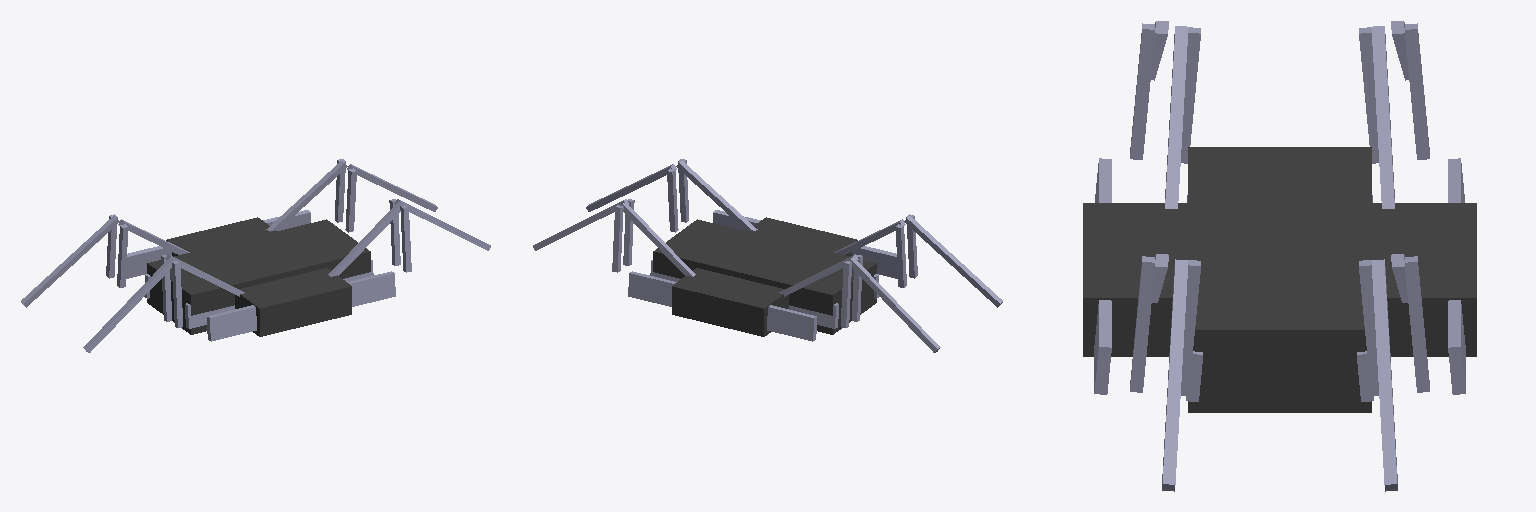
--- Facts derived from the render (not from the file) ---
The picture shows the robot from 3 angles, left to right: view 1: azimuth 30°, elevation 25°; view 2: azimuth 150°, elevation 25°; view 3: azimuth 270°, elevation 25°; orthographic projection.
Model quadruped with 27 links and 26 joints (8 continuous, 18 fixed), rooted at base_chassis_link, posed every joint at zero.
Links seen in each view (by area): view 1: base_chassis_link, chassis_right, chassis_left, lower_leg_back_leftR_link, lower_leg_back_rightR_link, lower_leg_front_leftR_link, lower_leg_front_rightR_link, lower_leg_front_leftL_link, lower_leg_front_rightL_link, upper_leg_front_rightR_link, upper_leg_back_rightR_link, upper_leg_front_leftL_link (+1 smaller); view 2: base_chassis_link, chassis_left, chassis_right, lower_leg_back_rightR_link, lower_leg_back_leftR_link, lower_leg_front_rightR_link, lower_leg_front_leftR_link, lower_leg_front_rightL_link, lower_leg_front_leftL_link, upper_leg_front_leftR_link, upper_leg_back_leftR_link, upper_leg_front_rightL_link (+1 smaller); view 3: base_chassis_link, lower_leg_front_rightL_link, lower_leg_front_leftL_link, chassis_right, chassis_left, lower_leg_back_rightL_link, lower_leg_back_leftL_link, upper_leg_back_rightR_link, upper_leg_back_leftR_link, upper_leg_front_rightR_link, upper_leg_front_leftR_link, upper_leg_front_rightL_link (+5 smaller).
Link boxes in pixels (left/top/right/bottom): base_chassis_link: left=147, top=217, right=370, bottom=336; chassis_right: left=185, top=260, right=395, bottom=341; chassis_left: left=126, top=210, right=310, bottom=298; lower_leg_back_leftR_link: left=21, top=216, right=119, bottom=307; lower_leg_back_rightR_link: left=83, top=257, right=174, bottom=352; lower_leg_front_leftR_link: left=266, top=161, right=347, bottom=231; lower_leg_front_rightR_link: left=328, top=202, right=402, bottom=276; lower_leg_front_leftL_link: left=347, top=164, right=437, bottom=211; lower_leg_front_rightL_link: left=395, top=199, right=490, bottom=250; upper_leg_front_rightR_link: left=400, top=205, right=411, bottom=272; upper_leg_back_rightR_link: left=172, top=261, right=182, bottom=327; upper_leg_front_leftL_link: left=345, top=168, right=356, bottom=232; base_chassis_link: left=653, top=217, right=876, bottom=336; chassis_left: left=628, top=260, right=838, bottom=341; chassis_right: left=713, top=210, right=897, bottom=298; lower_leg_back_rightR_link: left=904, top=216, right=1002, bottom=307; lower_leg_back_leftR_link: left=849, top=257, right=940, bottom=352; lower_leg_front_rightR_link: left=676, top=161, right=757, bottom=231; lower_leg_front_leftR_link: left=621, top=202, right=695, bottom=276; lower_leg_front_rightL_link: left=586, top=164, right=676, bottom=211; lower_leg_front_leftL_link: left=533, top=199, right=628, bottom=250; upper_leg_front_leftR_link: left=612, top=205, right=623, bottom=272; upper_leg_back_leftR_link: left=841, top=261, right=851, bottom=327; upper_leg_front_rightL_link: left=667, top=168, right=678, bottom=232; base_chassis_link: left=1083, top=147, right=1476, bottom=412; lower_leg_front_rightL_link: left=1162, top=259, right=1188, bottom=491; lower_leg_front_leftL_link: left=1371, top=259, right=1397, bottom=491; chassis_right: left=1094, top=158, right=1202, bottom=401; chassis_left: left=1357, top=158, right=1465, bottom=401; lower_leg_back_rightL_link: left=1165, top=26, right=1188, bottom=208; lower_leg_back_leftL_link: left=1371, top=26, right=1394, bottom=208; upper_leg_back_rightR_link: left=1130, top=23, right=1154, bottom=159; upper_leg_back_leftR_link: left=1405, top=23, right=1429, bottom=159; upper_leg_front_rightR_link: left=1130, top=256, right=1154, bottom=392; upper_leg_front_leftR_link: left=1405, top=256, right=1429, bottom=392; upper_leg_front_rightL_link: left=1181, top=260, right=1200, bottom=396.
Bounding box of the posed robot: 0.7535 × 0.3 × 0.155 m (x, y, z).
0 mesh visuals loaded from 1 distinct referenced files (none loaded); not drawn: 8 (reference not matched to a file when rendering).

URDF robot description (quadruped):
<?xml version="1.0" ?>
<!-- ======================================================================= -->
<!--LICENSE:                                                                 -->
<!--Copyright (c) 2017, Erwin Coumans                                        -->
<!--Google Inc.                                                              -->
<!--All rights reserved.                                                     -->
<!--                                                                         -->
<!--Redistribution and use in source and binary forms, with or without       -->
<!--modification, are permitted provided that the following conditions are   -->
<!--met:                                                                     -->
<!--                                                                         -->
<!--1. Redistributions or derived work must retain this copyright notice,    -->
<!--   this list of conditions and the following disclaimer.                 -->
<!--                                                                         -->
<!--2. Redistributions in binary form must reproduce the above copyright     -->
<!--   notice, this list of conditions and the following disclaimer in the   -->
<!--   documentation and/or other materials provided with the distribution.  -->
<!--                                                                         -->
<!--THIS SOFTWARE IS PROVIDED BY THE COPYRIGHT HOLDERS AND CONTRIBUTORS "AS  -->
<!--IS" AND ANY EXPRESS OR IMPLIED WARRANTIES, INCLUDING, BUT NOT LIMITED TO,-->
<!--THE IMPLIED WARRANTIES OF MERCHANTABILITY AND FITNESS FOR A PARTICULAR   -->
<!--PURPOSE ARE DISCLAIMED. IN NO EVENT SHALL THE COPYRIGHT HOLDER OR        -->
<!--CONTRIBUTORS BE LIABLE FOR ANY DIRECT, INDIRECT, INCIDENTAL, SPECIAL,    -->
<!--EXEMPLARY, OR CONSEQUENTIAL DAMAGES (INCLUDING, BUT NOT LIMITED TO,      -->
<!--PROCUREMENT OF SUBSTITUTE GOODS OR SERVICES; LOSS OF USE, DATA, OR       -->
<!--PROFITS; OR BUSINESS INTERRUPTION) HOWEVER CAUSED AND ON ANY THEORY OF   -->
<!--LIABILITY, WHETHER IN CONTRACT, STRICT LIABILITY, OR TORT (INCLUDING     -->
<!--NEGLIGENCE OR OTHERWISE) ARISING IN ANY WAY OUT OF THE USE OF THIS       -->
<!--SOFTWARE, EVEN IF ADVISED OF THE POSSIBILITY OF SUCH DAMAGE.             -->

<robot name="quadruped">
  <link name="base_chassis_link">
    <visual>
      <geometry>
        <box size=".33 0.14 .07"/>
      </geometry>
      <material name="black">
        <color rgba="0.3 0.3 0.3 1"/>
      </material>
    </visual>
    <visual>
			<origin rpy="0 0 0" xyz="0 0.10 0"/>
      <geometry>
        <box size=".17 0.10 .05"/>
      </geometry>
      <material name="black">
        <color rgba="0.3 0.3 0.3 1"/>
      </material>
    </visual>
		<visual>
			<origin rpy="0 0 0" xyz="0 -0.10 0"/>
      <geometry>
        <box size=".17 0.10 .05"/>
      </geometry>
      <material name="black">
        <color rgba="0.3 0.3 0.3 1"/>
      </material>
    </visual>

    <collision>
      <geometry>
       <box size=".34 0.14 .07"/>
      </geometry>
    </collision>
    <collision>
			<origin rpy="0 0 0" xyz="0 0.10 0"/>
      <geometry>
       <box size=".17 0.10 .05"/>
      </geometry>
    </collision>
    <collision>
			<origin rpy="0 0 0" xyz="0 -0.10 0"/>
      <geometry>
       <box size=".17 0.10 .05"/>
      </geometry>
    </collision>

    <inertial>
      <mass value="3"/>
      <inertia ixx="1.0" ixy="0.0" ixz="0.0" iyy="1.0" iyz="0.0" izz="1.0"/>
    </inertial>
  </link>

  <link name="chassis_right">
    <visual>
			<origin rpy="0 0 0" xyz="0 0.035 0"/>
      <geometry>
       <box size=".34 0.01 .04"/>
      </geometry>
			<material name="grey">
        <color rgba="0.65 0.65 0.75 1"/>
      </material>    </visual>
    <visual>
			<origin rpy="0 0 0" xyz="0 -0.035 0"/>
      <geometry>
       <box size=".34 0.01 .04"/>
      </geometry>
			<material name="grey">
        <color rgba="0.65 0.65 0.75 1"/>
      </material>    </visual>
    <collision>
			<origin rpy="0 0 0" xyz="0 0.035 0"/>
      <geometry>
       <box size=".34 0.01 .04"/>
      </geometry>
    </collision>
    <collision>
			<origin rpy="0 0 0" xyz="0 -0.035 0"/>
      <geometry>
       <box size=".34 0.01 .04"/>
      </geometry>
    </collision>
    <inertial>
      <mass value=".1"/>
      <inertia ixx="1.0" ixy="0.0" ixz="0.0" iyy="1.0" iyz="0.0" izz="1.0"/>
    </inertial>
  </link>

  <joint name="chassis_right_center" type="fixed">
    <axis xyz="0 0 1"/>
    <parent link="base_chassis_link"/>
    <child link="chassis_right"/>
    <origin rpy="-0.0872665 0 0" xyz="0.0 -0.10 0.0"/>
    <limit effort="100" velocity="100"/>
    <joint_properties damping="0.0" friction="0.0"/>
  </joint>

  <link name="chassis_left">
    <visual>
			<origin rpy="0 0 0" xyz="0 0.035 0"/>
      <geometry>
       <box size=".34 0.01 .04"/>
      </geometry>
			<material name="grey">
        <color rgba="0.65 0.65 0.75 1"/>
      </material>    </visual>
    <visual>
			<origin rpy="0 0 0" xyz="0 -0.035 0"/>
      <geometry>
       <box size=".34 0.01 .04"/>
      </geometry>
			<material name="grey">
        <color rgba="0.65 0.65 0.75 1"/>
      </material>    </visual>
    <collision>
			<origin rpy="0 0 0" xyz="0 0.035 0"/>
      <geometry>
       <box size=".34 0.01 .04"/>
      </geometry>
    </collision>
    <collision>
			<origin rpy="0 0 0" xyz="0 -0.035 0"/>
      <geometry>
       <box size=".34 0.01 .04"/>
      </geometry>
    </collision>
    <inertial>
      <mass value=".1"/>
      <inertia ixx="1.0" ixy="0.0" ixz="0.0" iyy="1.0" iyz="0.0" izz="1.0"/>
    </inertial>
  </link>

  <joint name="chassis_left_center" type="fixed">
    <axis xyz="0 0 1"/>
    <parent link="base_chassis_link"/>
    <child link="chassis_left"/>
    <origin rpy="0.0872665 0 0" xyz="0.0 0.10 0.0"/>
    <limit effort="100" velocity="100"/>
    <joint_properties damping="0.0" friction="0.0"/>
  </joint>

  
  
  <link name="motor_front_rightR_link">
    <visual>
      <geometry>
        <mesh filename="tmotor3.obj" scale="1 1 1"/>
      </geometry>
      <material name="white">
        <color rgba="1 1 1 1"/>
      </material>
    </visual>
    <collision>
      <geometry>
        <cylinder length="0.026" radius="0.0434"/>
      </geometry>
    </collision>
    <inertial>
      <mass value="0.25"/>
      <inertia ixx="1.0" ixy="0.0" ixz="0.0" iyy="1.0" iyz="0.0" izz="1.0"/>
    </inertial>
  </link>
  <joint name="motor_front_rightR_joint" type="continuous">
    <axis xyz="0 0 1"/>
    <parent link="chassis_right"/>
    <child link="motor_front_rightR_link"/>
    <origin rpy="1.57075 0 0" xyz="0.21 -0.025 0"/>
    <limit effort="100" velocity="100"/>
    <joint_properties damping="0.0" friction="0.0"/>
  </joint>


	<link name="motor_front_rightL_link">
    <visual>
      <geometry>
        <mesh filename="tmotor3.obj" scale="1 1 1"/>
      </geometry>
      <material name="white">
        <color rgba="1 1 1 1"/>
      </material>
    </visual>
    <collision>
      <geometry>
        <cylinder length="0.026" radius="0.0434"/>
      </geometry>
    </collision>
    <inertial>
      <mass value="0.25"/>
      <inertia ixx="1.0" ixy="0.0" ixz="0.0" iyy="1.0" iyz="0.0" izz="1.0"/>
    </inertial>
  </link>
  <joint name="motor_front_rightL_joint" type="continuous">
    <axis xyz="0 0 1"/>
    <parent link="chassis_right"/>
    <child link="motor_front_rightL_link"/>
    <origin rpy="1.57075 0 3.141592" xyz="0.21 0.04 0"/>
    <limit effort="100" velocity="100"/>
    <joint_properties damping="0.0" friction="0.0"/>
  </joint>
  
  
  <link name="motor_front_leftR_link">
    <visual>
      <geometry>
        <mesh filename="tmotor3.obj" scale="1 1 1"/>
      </geometry>
      <material name="white">
        <color rgba="1 1 1 1"/>
      </material>
    </visual>
    <collision>
      <geometry>
        <cylinder length="0.026" radius="0.0434"/>
      </geometry>
    </collision>
    <inertial>
      <mass value="0.25"/>
      <inertia ixx="1.0" ixy="0.0" ixz="0.0" iyy="1.0" iyz="0.0" izz="1.0"/>
    </inertial>
  </link>
  <joint name="motor_front_leftR_joint" type="continuous">
    <axis xyz="0 0 1"/>
    <parent link="chassis_left"/>
    <child link="motor_front_leftR_link"/>
    <origin rpy="1.57075 0 3.141592" xyz="0.21 0.025 0"/>
    <limit effort="100" velocity="100"/>
    <joint_properties damping="0.0" friction="0.0"/>
  </joint>


	<link name="motor_front_leftL_link">
    <visual>
      <geometry>
        <mesh filename="tmotor3.obj" scale="1 1 1"/>
      </geometry>
      <material name="white">
        <color rgba="1 1 1 1"/>
      </material>
    </visual>
    <inertial>
      <mass value="0.25"/>
      <inertia ixx="1.0" ixy="0.0" ixz="0.0" iyy="1.0" iyz="0.0" izz="1.0"/>
    </inertial>
  </link>
  <joint name="motor_front_leftL_joint" type="continuous">
    <axis xyz="0 0 1"/>
    <parent link="chassis_left"/>
    <child link="motor_front_leftL_link"/>
    <origin rpy="1.57075 0 0" xyz="0.21 -0.04 0"/>
    <limit effort="100" velocity="100"/>
    <joint_properties damping="0.0" friction="0.0"/>
  </joint>
  
  
  <link name="motor_back_rightR_link">
    <visual>
      <geometry>
        <mesh filename="tmotor3.obj" scale="1 1 1"/>
      </geometry>
      <material name="white">
        <color rgba="1 1 1 1"/>
      </material>
    </visual>
    <collision>
      <geometry>
        <cylinder length="0.026" radius="0.0434"/>
      </geometry>
    </collision>
    <inertial>
      <mass value="0.25"/>
      <inertia ixx="1.0" ixy="0.0" ixz="0.0" iyy="1.0" iyz="0.0" izz="1.0"/>
    </inertial>
  </link>
  <joint name="motor_back_rightR_joint" type="continuous">
    <axis xyz="0 0 1"/>
    <parent link="chassis_right"/>
    <child link="motor_back_rightR_link"/>
    <origin rpy="1.57075 0 0" xyz="-0.21 -0.025 0"/>
    <limit effort="100" velocity="100"/>
    <joint_properties damping="0.0" friction="0.0"/>
  </joint>


	<link name="motor_back_rightL_link">
    <visual>
      <geometry>
        <mesh filename="tmotor3.obj" scale="1 1 1"/>
      </geometry>
      <material name="white">
        <color rgba="1 1 1 1"/>
      </material>
    </visual>
    <collision>
      <geometry>
        <cylinder length="0.026" radius="0.0434"/>
      </geometry>
    </collision>
    <inertial>
      <mass value="0.25"/>
      <inertia ixx="1.0" ixy="0.0" ixz="0.0" iyy="1.0" iyz="0.0" izz="1.0"/>
    </inertial>
  </link>
  <joint name="motor_back_rightL_joint" type="continuous">
    <axis xyz="0 0 1"/>
    <parent link="chassis_right"/>
    <child link="motor_back_rightL_link"/>
    <origin rpy="1.57075 0 3.141592" xyz="-0.21 0.04 0"/>
    <limit effort="100" velocity="100"/>
    <joint_properties damping="0.0" friction="0.0"/>
  </joint>
  
  
  <link name="motor_back_leftR_link">
    <visual>
      <geometry>
        <mesh filename="tmotor3.obj" scale="1 1 1"/>
      </geometry>
      <material name="white">
        <color rgba="1 1 1 1"/>
      </material>
    </visual>
    <collision>
      <geometry>
        <cylinder length="0.026" radius="0.0434"/>
      </geometry>
    </collision>
    <inertial>
      <mass value="0.25"/>
      <inertia ixx="1.0" ixy="0.0" ixz="0.0" iyy="1.0" iyz="0.0" izz="1.0"/>
    </inertial>
  </link>
  <joint name="motor_back_leftR_joint" type="continuous">
    <axis xyz="0 0 1"/>
    <parent link="chassis_left"/>
    <child link="motor_back_leftR_link"/>
    <origin rpy="1.57075 0 3.141592" xyz="-0.21 0.025 0"/>
    <limit effort="100" velocity="100"/>
    <joint_properties damping="0.0" friction="0.0"/>
  </joint>


	<link name="motor_back_leftL_link">
    <visual>
      <geometry>
        <mesh filename="tmotor3.obj" scale="1 1 1"/>
      </geometry>
      <material name="white">
        <color rgba="1 1 1 1"/>
      </material>
    </visual>
    <collision>
      <geometry>
        <cylinder length="0.026" radius="0.0434"/>
      </geometry>
    </collision>
    <inertial>
      <mass value="0.25"/>
      <inertia ixx="1.0" ixy="0.0" ixz="0.0" iyy="1.0" iyz="0.0" izz="1.0"/>
    </inertial>
  </link>
  <joint name="motor_back_leftL_joint" type="continuous">
    <axis xyz="0 0 1"/>
    <parent link="chassis_left"/>
    <child link="motor_back_leftL_link"/>
    <origin rpy="1.57075 0 0" xyz="-0.21 -0.04 0"/>
    <limit effort="100" velocity="100"/>
    <joint_properties damping="0.0" friction="0.0"/>
  </joint>

	<link name="upper_leg_front_rightR_link">
    <visual>
      <geometry>
        <box size=".01 0.01 .11"/>
      </geometry>
      <material name="grey">
        <color rgba="0.65 0.65 0.75 1"/>
      </material>
    </visual>
    <collision>
      <geometry>
        <box size=".01 0.01 .11"/>
      </geometry>
    </collision>
    <inertial>
      <mass value="0.05"/>
      <inertia ixx="1.0" ixy="0.0" ixz="0.0" iyy="1.0" iyz="0.0" izz="1.0"/>
    </inertial>
  </link>
  <joint name="hip_front_rightR_link" type="fixed">
    <axis xyz="0 0 1"/>
    <parent link="motor_front_rightR_link"/>
    <child link="upper_leg_front_rightR_link"/>
    <origin rpy="-1.57075 0 0" xyz="0.0 0.06 -0.015"/>
    <limit effort="100" velocity="100"/>
    <joint_properties damping="0.0" friction="0.0"/>
  </joint>

	<link name="lower_leg_front_rightR_link">
	<contact>
	  <stiffness value="10000"/>
    <damping value="10"/>
		<lateral_friction value="1"/>
  </contact>

    <visual>
    	<origin rpy="0.0 0 0" xyz="0 0 .1"/>
      <geometry>
        <box size=".01 0.01 .2"/>
      </geometry>
      <material name="grey">
        <color rgba="0.65 0.65 0.75 1"/>
      </material>
    </visual>
    <collision>
    	<origin rpy="0.0 0 0" xyz="0 0 .1"/>
      <geometry>
        <box size=".01 0.01 .2"/>
      </geometry>
    </collision>
    <inertial>
      <mass value="0.05"/>
      <inertia ixx="1.0" ixy="0.0" ixz="0.0" iyy="1.0" iyz="0.0" izz="1.0"/>
    </inertial>
  </link>
  <joint name="knee_front_rightR_link" type="fixed">
    <axis xyz="0 1 0"/>
    <parent link="upper_leg_front_rightR_link"/>
    <child link="lower_leg_front_rightR_link"/>
    <origin rpy="0 -2.1834 0" xyz="0.0 0.01 .055"/>
    <limit effort="100" velocity="100"/>
    <joint_properties damping="0.0" friction="0.0"/>
  </joint>

    
  <link name="upper_leg_front_rightL_link">
    <visual>
      <geometry>
        <box size=".01 0.01 .11"/>
      </geometry>
      <material name="grey">
        <color rgba="0.65 0.65 0.75 1"/>
      </material>
    </visual>
    <collision>
      <geometry>
        <box size=".01 0.01 .11"/>
      </geometry>
    </collision>
    <inertial>
      <mass value="0.05"/>
      <inertia ixx="1.0" ixy="0.0" ixz="0.0" iyy="1.0" iyz="0.0" izz="1.0"/>
    </inertial>
  </link>
  <joint name="motor_front_rightL_link" type="fixed">
    <axis xyz="0 0 1"/>
    <parent link="motor_front_rightL_link"/>
    <child link="upper_leg_front_rightL_link"/>
    <origin rpy="-1.57075 0 0" xyz="0.0 0.06 -0.015"/>
    <limit effort="100" velocity="100"/>
    <joint_properties damping="0.0" friction="0.0"/>
  </joint>

  

  
  <link name="lower_leg_front_rightL_link">
	<contact>
		<stiffness value="10000"/>
		<damping value="10"/>
		<lateral_friction value="1"/>
  </contact>

    <visual>
    	<origin rpy="0.0 0 0" xyz="0 0 .1"/>
      <geometry>
        <box size=".01 0.01 .198"/>
      </geometry>
      <material name="grey">
        <color rgba="0.65 0.65 0.75 1"/>
      </material>
    </visual>
    <collision>
    	<origin rpy="0.0 0 0" xyz="0 0 .1"/>
      <geometry>
        <box size=".01 0.01 .198"/>
      </geometry>
    </collision>
    <inertial>
      <mass value="0.05"/>
      <inertia ixx="1.0" ixy="0.0" ixz="0.0" iyy="1.0" iyz="0.0" izz="1.0"/>
    </inertial>
  </link>
  <joint name="knee_front_rightL_link" type="fixed">
    <axis xyz="0 1 0"/>
    <parent link="upper_leg_front_rightL_link"/>
    <child link="lower_leg_front_rightL_link"/>
    <origin rpy="0 -2.1834 0" xyz="0.0 0.01 .055"/>
    <limit effort="100" velocity="100"/>
    <joint_properties damping="0.0" friction="0.0"/>
  </joint>


	<link name="upper_leg_front_leftR_link">
    <visual>
      <geometry>
        <box size=".01 0.01 .11"/>
      </geometry>
      <material name="grey">
        <color rgba="0.65 0.65 0.75 1"/>
      </material>
    </visual>
    <collision>
      <geometry>
        <box size=".01 0.01 .11"/>
      </geometry>
    </collision>
    <inertial>
      <mass value="0.05"/>
      <inertia ixx="1.0" ixy="0.0" ixz="0.0" iyy="1.0" iyz="0.0" izz="1.0"/>
    </inertial>
  </link>
  <joint name="hip_front_leftR_link" type="fixed">
    <axis xyz="0 0 1"/>
    <parent link="motor_front_leftR_link"/>
    <child link="upper_leg_front_leftR_link"/>
    <origin rpy="-1.57075 0 0" xyz="0.0 0.06 -0.015"/>
    <limit effort="100" velocity="100"/>
    <joint_properties damping="0.0" friction="0.0"/>
  </joint>


	<link name="lower_leg_front_leftR_link">
	<contact>
		<stiffness value="10000"/>
		<damping value="10"/>
		<lateral_friction value="1"/>
  </contact>

    <visual>
    	<origin rpy="0.0 0.0 0" xyz="0 0 .1"/>
      <geometry>
        <box size=".01 0.01 .2"/>
      </geometry>
      <material name="grey">
        <color rgba="0.65 0.65 0.75 1"/>
      </material>
    </visual>
    <collision>
    	<origin rpy="0.0 0.0 0" xyz="0 0 .1"/>
      <geometry>
        <box size=".01 0.01 .2"/>
      </geometry>
    </collision>
    <inertial>
      <mass value="0.05"/>
      <inertia ixx="1.0" ixy="0.0" ixz="0.0" iyy="1.0" iyz="0.0" izz="1.0"/>
    </inertial>
  </link>
  <joint name="knee_front_leftR_link" type="fixed">
    <axis xyz="0 1 0"/>
    <parent link="upper_leg_front_leftR_link"/>
    <child link="lower_leg_front_leftR_link"/>
    <origin rpy="0 2.1834 0" xyz="0.0 0.01 .055"/>
    <limit effort="100" velocity="100"/>
    <joint_properties damping="0.0" friction="0.0"/>
  </joint>



   <link name="upper_leg_front_leftL_link">
    <visual>
      <geometry>
        <box size=".01 0.01 .11"/>
      </geometry>
      <material name="grey">
        <color rgba="0.65 0.65 0.75 1"/>
      </material>
    </visual>
    <collision>
      <geometry>
        <box size=".01 0.01 .11"/>
      </geometry>
    </collision>
    <inertial>
      <mass value="0.05"/>
      <inertia ixx="1.0" ixy="0.0" ixz="0.0" iyy="1.0" iyz="0.0" izz="1.0"/>
    </inertial>
  </link>
  <joint name="motor_front_leftL_link" type="fixed">
    <axis xyz="0 0 1"/>
    <parent link="motor_front_leftL_link"/>
    <child link="upper_leg_front_leftL_link"/>
    <origin rpy="-1.57075 0 0" xyz="0.0 0.06 -0.015"/>
    <limit effort="100" velocity="100"/>
    <joint_properties damping="0.0" friction="0.0"/>
  </joint>


  <link name="lower_leg_front_leftL_link">
	<contact>
		<stiffness value="10000"/>
		<damping value="10"/>
		<lateral_friction value="1"/>
  </contact>

    <visual>
    	<origin rpy="0.0 0.0 0" xyz="0 0 .1"/>
      <geometry>
        <box size=".01 0.01 .198"/>
      </geometry>
      <material name="grey">
        <color rgba="0.65 0.65 0.75 1"/>
      </material>
    </visual>
    <collision>
    	<origin rpy="0.0 0.0 0" xyz="0 0 .1"/>
      <geometry>
        <box size=".01 0.01 .198"/>
      </geometry>
    </collision>
    <inertial>
      <mass value="0.05"/>
      <inertia ixx="1.0" ixy="0.0" ixz="0.0" iyy="1.0" iyz="0.0" izz="1.0"/>
    </inertial>
  </link>
  <joint name="knee_front_leftL_link" type="fixed">
    <axis xyz="0 1 0"/>
    <parent link="upper_leg_front_leftL_link"/>
    <child link="lower_leg_front_leftL_link"/>
    <origin rpy="0 2.1834 0" xyz="0.0 0.01 .055"/>
    <limit effort="100" velocity="100"/>
    <joint_properties damping="0.0" friction="0.0"/>
  </joint>
  
	<link name="upper_leg_back_rightR_link">
    <visual>
      <geometry>
        <box size=".01 0.01 .11"/>
      </geometry>
      <material name="grey">
        <color rgba="0.65 0.65 0.75 1"/>
      </material>
    </visual>
    <collision>
      <geometry>
        <box size=".01 0.01 .11"/>
      </geometry>
    </collision>
    <inertial>
      <mass value="0.05"/>
      <inertia ixx="1.0" ixy="0.0" ixz="0.0" iyy="1.0" iyz="0.0" izz="1.0"/>
    </inertial>
  </link>
  <joint name="hip_rightR_link" type="fixed">
    <axis xyz="0 0 1"/>
    <parent link="motor_back_rightR_link"/>
    <child link="upper_leg_back_rightR_link"/>
    <origin rpy="-1.57075 0 0" xyz="0.0 0.06 -0.015"/>
    <limit effort="100" velocity="100"/>
    <joint_properties damping="0.0" friction="0.0"/>
  </joint>

	<link name="lower_leg_back_rightR_link">
	<contact>
		<stiffness value="10000"/>
		<damping value="10"/>
		<lateral_friction value="1"/>
  </contact>

    <visual>
    	<origin rpy="0.0 0 0" xyz="0 0 .1"/>
      <geometry>
        <box size=".01 0.01 .2032"/>
      </geometry>
      <material name="grey">
        <color rgba="0.65 0.65 0.75 1"/>
      </material>
    </visual>
    <collision>
    	<origin rpy="0.0 0 0" xyz="0 0 .1"/>
      <geometry>
        <box size=".01 0.01 .2032"/>
      </geometry>
    </collision>
    <inertial>
      <mass value="0.05"/>
      <inertia ixx="1.0" ixy="0.0" ixz="0.0" iyy="1.0" iyz="0.0" izz="1.0"/>
    </inertial>
  </link>
  <joint name="knee_back_rightR_link" type="fixed">
    <axis xyz="0 1 0"/>
    <parent link="upper_leg_back_rightR_link"/>
    <child link="lower_leg_back_rightR_link"/>
    <origin rpy="0 -2.1834 0" xyz="0.0 0.01 .055"/>
    <limit effort="100" velocity="100"/>
    <joint_properties damping="0.0" friction="0.0"/>
  </joint>

    
  <link name="upper_leg_back_rightL_link">
    <visual>
      <geometry>
        <box size=".01 0.01 .11"/>
      </geometry>
      <material name="grey">
        <color rgba="0.65 0.65 0.75 1"/>
      </material>
    </visual>
    <collision>
      <geometry>
        <box size=".01 0.01 .11"/>
      </geometry>
    </collision>
    <inertial>
      <mass value="0.05"/>
      <inertia ixx="1.0" ixy="0.0" ixz="0.0" iyy="1.0" iyz="0.0" izz="1.0"/>
    </inertial>
  </link>
  <joint name="motor_back_rightL_link" type="fixed">
    <axis xyz="0 0 1"/>
    <parent link="motor_back_rightL_link"/>
    <child link="upper_leg_back_rightL_link"/>
    <origin rpy="-1.57075 0 0" xyz="0.0 0.06 -0.015"/>
    <limit effort="100" velocity="100"/>
    <joint_properties damping="0.0" friction="0.0"/>
  </joint>

  

  
  <link name="lower_leg_back_rightL_link">
	<contact>
		<stiffness value="10000"/>
		<damping value="10"/>
		<lateral_friction value="1"/>
  </contact>

    <visual>
    	<origin rpy="0.0 0 0" xyz="0 0 .1"/>
      <geometry>
        <box size=".01 0.01 .2"/>
      </geometry>
      <material name="grey">
        <color rgba="0.65 0.65 0.75 1"/>
      </material>
    </visual>
    <collision>
    	<origin rpy="0.0 0 0" xyz="0 0 .1"/>
      <geometry>
        <box size=".01 0.01 .2"/>
      </geometry>
    </collision>
    <inertial>
      <mass value="0.05"/>
      <inertia ixx="1.0" ixy="0.0" ixz="0.0" iyy="1.0" iyz="0.0" izz="1.0"/>
    </inertial>
  </link>
  <joint name="knee_back_rightL_link" type="fixed">
    <axis xyz="0 1 0"/>
    <parent link="upper_leg_back_rightL_link"/>
    <child link="lower_leg_back_rightL_link"/>
    <origin rpy="0 -2.1834 0" xyz="0.0 0.01 .055"/>
    <limit effort="100" velocity="100"/>
    <joint_properties damping="0.0" friction="0.0"/>
  </joint>



	<link name="upper_leg_back_leftR_link">
    <visual>
      <geometry>
        <box size=".01 0.01 .11"/>
      </geometry>
      <material name="grey">
        <color rgba="0.65 0.65 0.75 1"/>
      </material>
    </visual>
    <collision>
      <geometry>
        <box size=".01 0.01 .11"/>
      </geometry>
    </collision>
    <inertial>
      <mass value="0.05"/>
      <inertia ixx="1.0" ixy="0.0" ixz="0.0" iyy="1.0" iyz="0.0" izz="1.0"/>
    </inertial>
  </link>
  <joint name="hip_leftR_link" type="fixed">
    <axis xyz="0 0 1"/>
    <parent link="motor_back_leftR_link"/>
    <child link="upper_leg_back_leftR_link"/>
    <origin rpy="-1.57075 0 0" xyz="0.0 0.06 -0.015"/>
    <limit effort="100" velocity="100"/>
    <joint_properties damping="0.0" friction="0.0"/>
  </joint>

<link name="lower_leg_back_leftR_link">
	<contact>
		<stiffness value="10000"/>
		<damping value="10"/>		
		<lateral_friction value="1"/>
  </contact>

    <visual>
    	<origin rpy="0.0 0 0" xyz="0 0 .1"/>
      <geometry>
        <box size=".01 0.01 .2032"/>
      </geometry>
      <material name="grey">
        <color rgba="0.65 0.65 0.75 1"/>
      </material>
    </visual>
    <collision>
    	<origin rpy="0.0 0 0" xyz="0 0 .1"/>
      <geometry>
        <box size=".01 0.01 .2032"/>
      </geometry>
    </collision>
    <inertial>
      <mass value="0.05"/>
      <inertia ixx="1.0" ixy="0.0" ixz="0.0" iyy="1.0" iyz="0.0" izz="1.0"/>
    </inertial>
  </link>
  <joint name="knee_back_leftR_link" type="fixed">
    <axis xyz="0 1 0"/>
    <parent link="upper_leg_back_leftR_link"/>
    <child link="lower_leg_back_leftR_link"/>
    <origin rpy="0 2.1834 0" xyz="0.0 0.01 .055"/>
    <limit effort="100" velocity="100"/>
    <joint_properties damping="0.0" friction="0.0"/>
  </joint>
  
   <link name="upper_leg_back_leftL_link">
    <visual>
      <geometry>
        <box size=".01 0.01 .11"/>
      </geometry>
      <material name="grey">
        <color rgba="0.65 0.65 0.75 1"/>
      </material>
    </visual>
    <collision>
      <geometry>
        <box size=".01 0.01 .11"/>
      </geometry>
    </collision>
    <inertial>
      <mass value="0.05"/>
      <inertia ixx="1.0" ixy="0.0" ixz="0.0" iyy="1.0" iyz="0.0" izz="1.0"/>
    </inertial>
  </link>
  <joint name="motor_back_leftL_link" type="fixed">
    <axis xyz="0 0 1"/>
    <parent link="motor_back_leftL_link"/>
    <child link="upper_leg_back_leftL_link"/>
    <origin rpy="-1.57075 0 0" xyz="0.0 0.06 -0.015"/>
    <limit effort="100" velocity="100"/>
    <joint_properties damping="0.0" friction="0.0"/>
  </joint>

 
  <link name="lower_leg_back_leftL_link">
	<contact>
		<stiffness value="10000"/>
		<damping value="10"/>		
		<lateral_friction value="1"/>
  </contact>

    <visual>
    	<origin rpy="0.0 0 0" xyz="0 0 .1"/>
      <geometry>
        <box size=".01 0.01 .2"/>
      </geometry>
      <material name="grey">
        <color rgba="0.65 0.65 0.75 1"/>
      </material>
    </visual>
    <collision>
    	<origin rpy="0.0 0 0" xyz="0 0 .1"/>
      <geometry>
        <box size=".01 0.01 .2"/>
      </geometry>
    </collision>
    <inertial>
      <mass value="0.05"/>
      <inertia ixx="1.0" ixy="0.0" ixz="0.0" iyy="1.0" iyz="0.0" izz="1.0"/>
    </inertial>
  </link>
  <joint name="knee_back_leftL_link" type="fixed">
    <axis xyz="0 1 0"/>
    <parent link="upper_leg_back_leftL_link"/>
    <child link="lower_leg_back_leftL_link"/>
    <origin rpy="0 2.1834 0" xyz="0.0 0.01 .055"/>
    <limit effort="100" velocity="100"/>
    <joint_properties damping="0.0" friction="0.0"/>
  </joint>
 
</robot>
